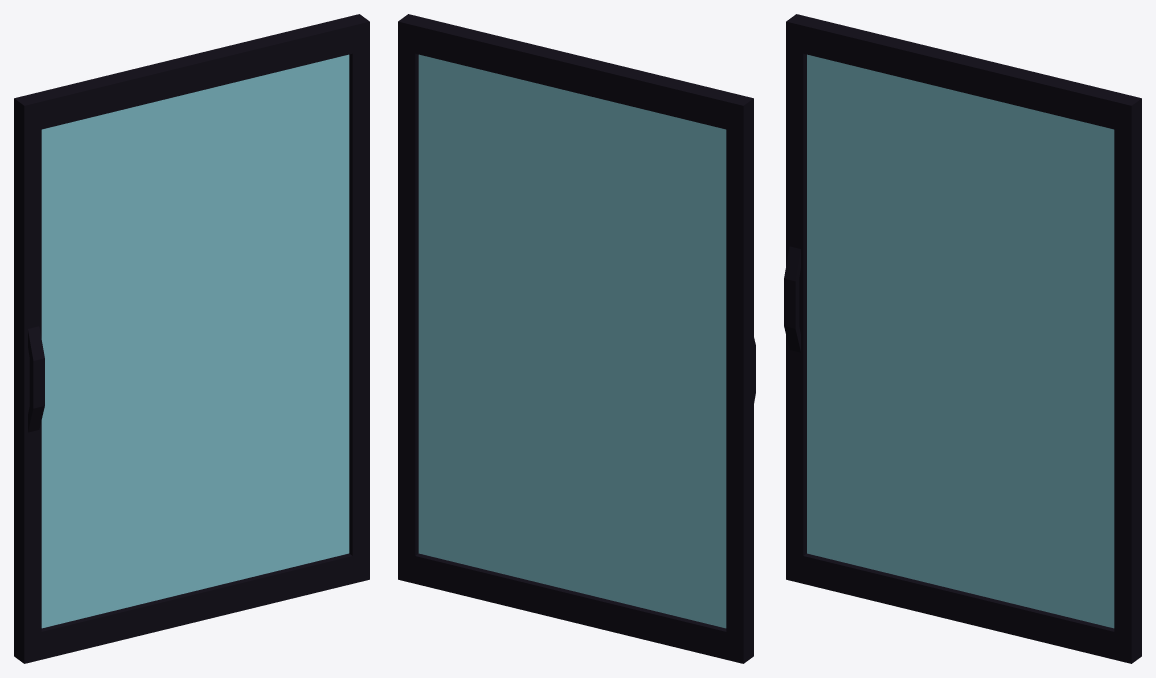
The model's file is CoolerShelfDoor.fbx.
3 renders of one model, left to right at view 1: azimuth 30°, elevation 25°; view 2: azimuth 150°, elevation 25°; view 3: azimuth 330°, elevation 25°, orthographic.
Visible parts, largest first — view 1: Glassdoor, Handle; view 2: Glassdoor; view 3: Glassdoor, Handle.
Part boxes in pixels (<box>): Glassdoor: <box>14,14,369,663</box>; Handle: <box>28,326,44,432</box>; Glassdoor: <box>398,14,753,663</box>; Glassdoor: <box>786,14,1141,663</box>; Handle: <box>784,246,800,352</box>.
Size of the model in its own units: 51.82 by 80 by 4.13.
